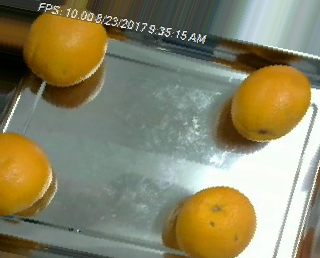Orange: (230, 63, 311, 143), (174, 185, 257, 258)
